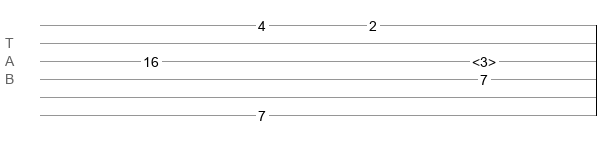16: (143, 54, 159, 64)
2: (369, 18, 377, 28)
4: (258, 18, 266, 28)
7: (258, 108, 266, 118), (480, 72, 488, 82)
harmonic: (472, 54, 496, 64)
